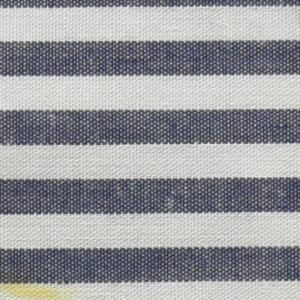Stain: (1, 259, 74, 300)
